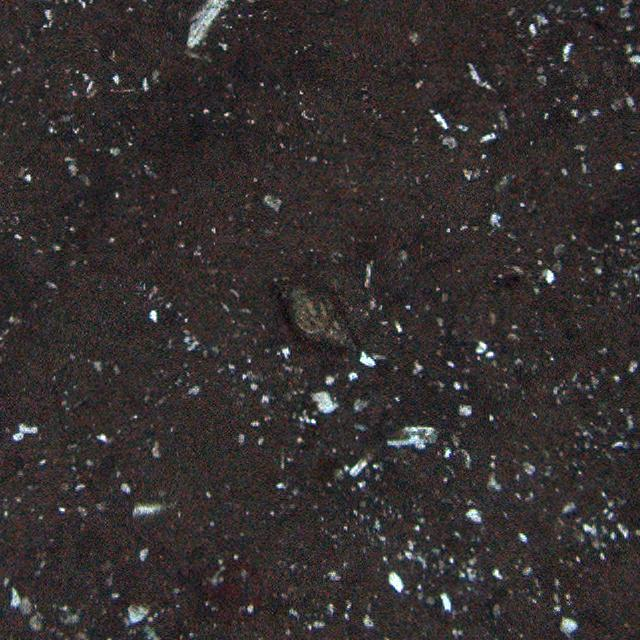whelk: (282, 274, 363, 362)
